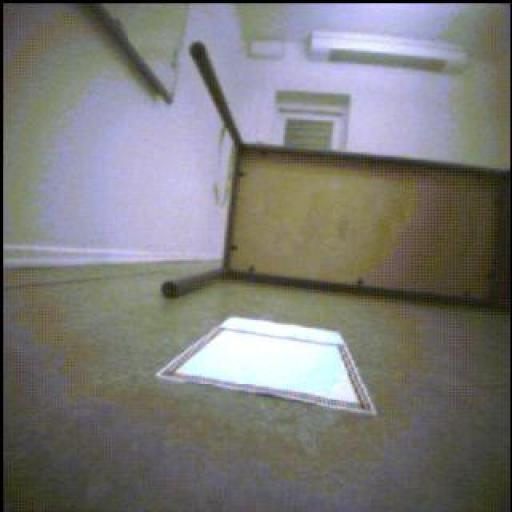Pad: (179, 315, 375, 415)
